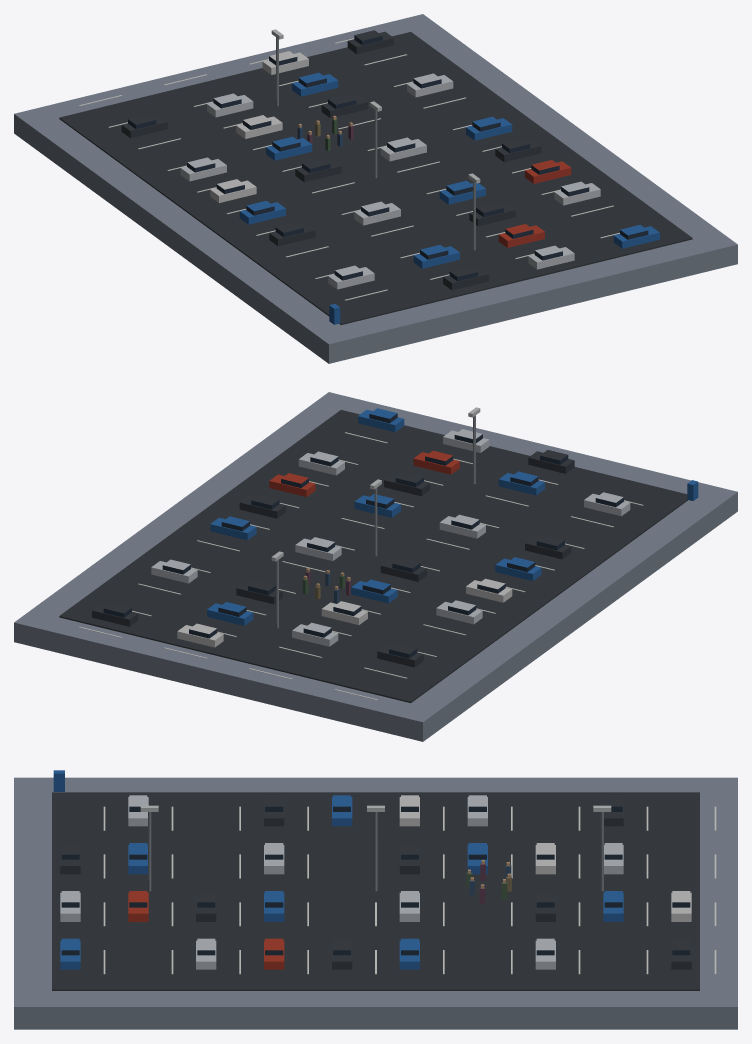
File: car_park.glb
3 views of the same model, one above another, from view 1: azimuth 30°, elevation 25°; view 2: azimuth 150°, elevation 25°; view 3: azimuth 270°, elevation 25° (orthographic). The views are drawn at different scales.
Visible parts, largest first — view 1: car_park; view 2: car_park; view 3: car_park.
Boxes of the visible parts, x1=… form: car_park: x1=14, y1=14, x2=737, y2=363; car_park: x1=14, y1=392, x2=737, y2=741; car_park: x1=14, y1=770, x2=737, y2=1029.
Bounding box in the file's own units: 48 × 10.55 × 64.
